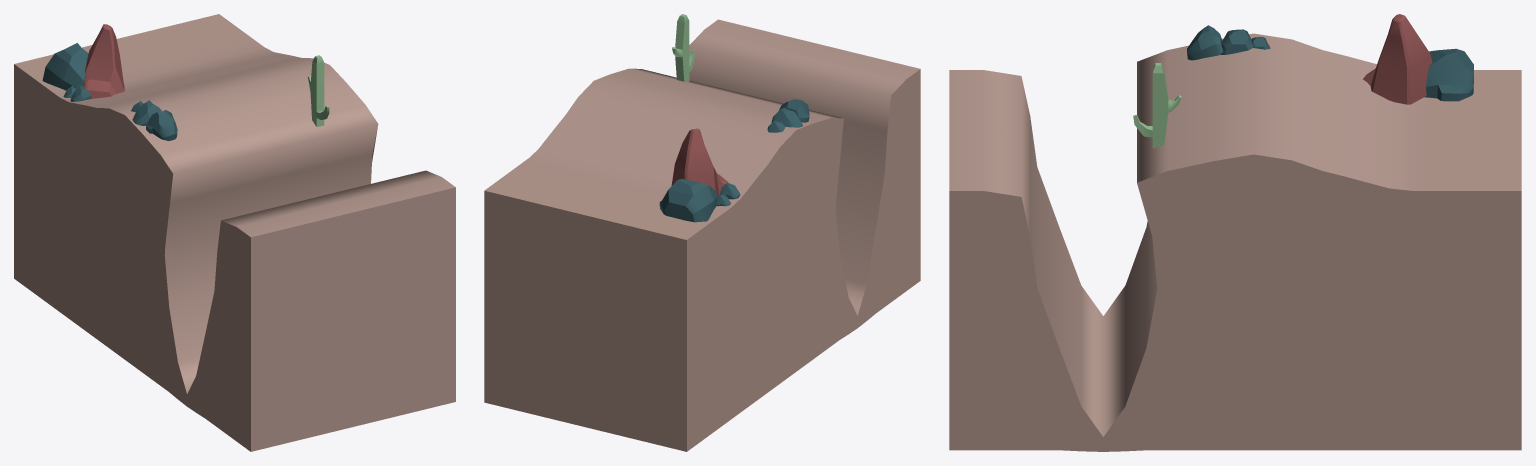
File: New-Land-CHASM_RIGHT.fbx
3 views of the same model, side by side, from view 1: azimuth 30°, elevation 25°; view 2: azimuth 150°, elevation 25°; view 3: azimuth 270°, elevation 25° (orthographic). The views are drawn at different scales.
Parts seen in each view (by area): view 1: Land_Modules:Chasm_Left, Rock__3_pCube3, pCube14, pCube15, pCube16; view 2: Land_Modules:Chasm_Left, pCube14, Rock__3_pCube3, pCube15; view 3: Land_Modules:Chasm_Left, Rock__3_pCube3, pCube14, pCube15, pCube16, pCube17.
Boxes of the visible parts, x1,y1,x2,y2 form: Land_Modules:Chasm_Left: (14, 14, 455, 451); Rock__3_pCube3: (83, 24, 124, 98); pCube14: (42, 43, 88, 90); pCube15: (307, 55, 329, 126); pCube16: (146, 110, 177, 140); Land_Modules:Chasm_Left: (484, 19, 920, 451); pCube14: (659, 179, 717, 222); Rock__3_pCube3: (671, 128, 728, 196); pCube15: (672, 14, 694, 81); Land_Modules:Chasm_Left: (949, 33, 1521, 451); Rock__3_pCube3: (1363, 14, 1432, 104); pCube14: (1424, 48, 1473, 101); pCube15: (1133, 63, 1181, 148); pCube16: (1187, 25, 1223, 60); pCube17: (1220, 29, 1253, 54).
Bounding box in the file's own units: 1000 × 1379 × 2000.
